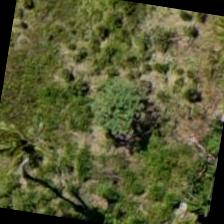Kelapa_Sawit: (0, 97, 81, 199)
